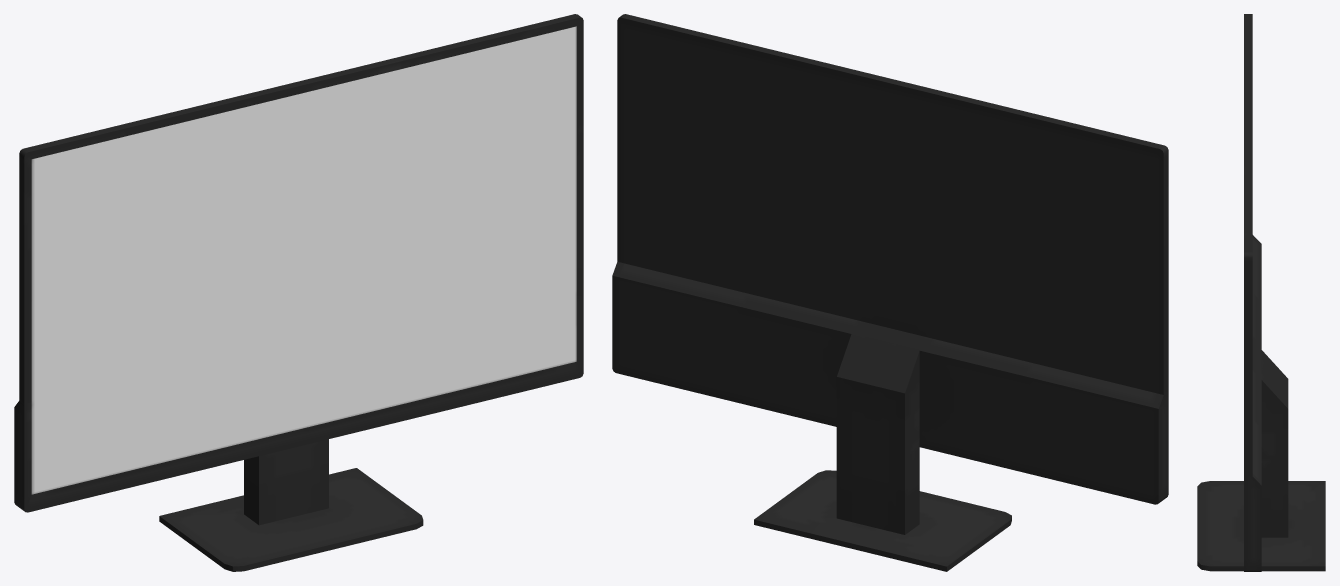
3 renders of one model, left to right at view 1: azimuth 30°, elevation 25°; view 2: azimuth 150°, elevation 25°; view 3: azimuth 270°, elevation 25°, orthographic. The views are drawn at different scales.
Visible parts, largest first — view 1: Monitor_low; view 2: Monitor_low; view 3: Monitor_low.
Boxes of the visible parts, x1,y1,x2,y2 form: Monitor_low: (14, 14, 583, 571); Monitor_low: (612, 14, 1168, 571); Monitor_low: (1197, 14, 1325, 571).
Bounding box in the file's own units: 2 × 1.52 × 0.448.
1 material, 1 textured.
